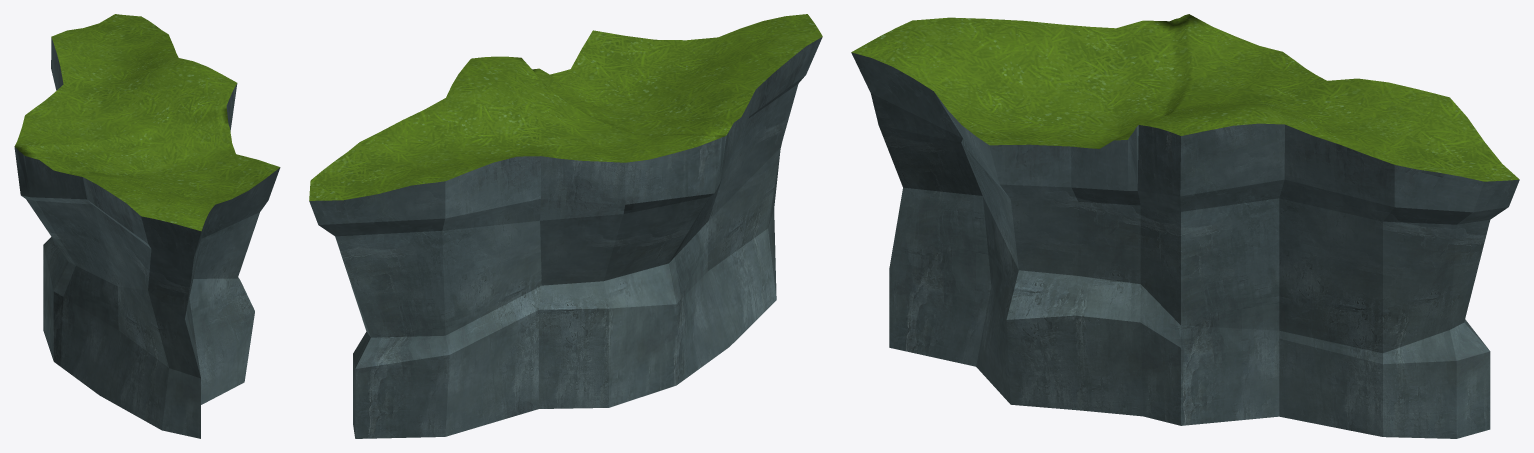
The model's file is IslandTower_3.fbx.
The picture shows the model from 3 angles, left to right: view 1: azimuth 30°, elevation 25°; view 2: azimuth 150°, elevation 25°; view 3: azimuth 270°, elevation 25°; orthographic projection. The views are drawn at different scales.
Visible parts, largest first — view 1: pPlane3; view 2: pPlane3; view 3: pPlane3.
Boxes of the visible parts, x1,y1,x2,y2 form: pPlane3: (14, 14, 280, 438); pPlane3: (309, 14, 822, 438); pPlane3: (851, 14, 1519, 438).
Size of the model in its own units: 3.19 by 3.04 by 5.93.
